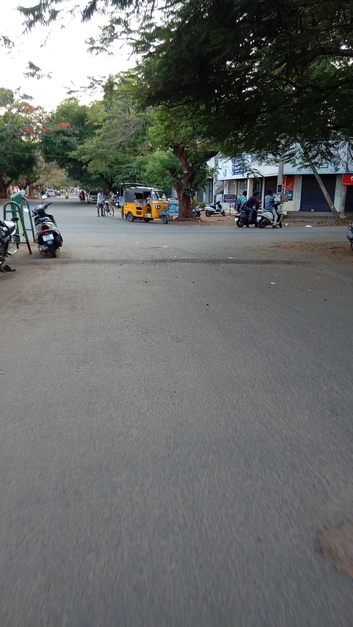bump: (11, 256, 327, 268)
